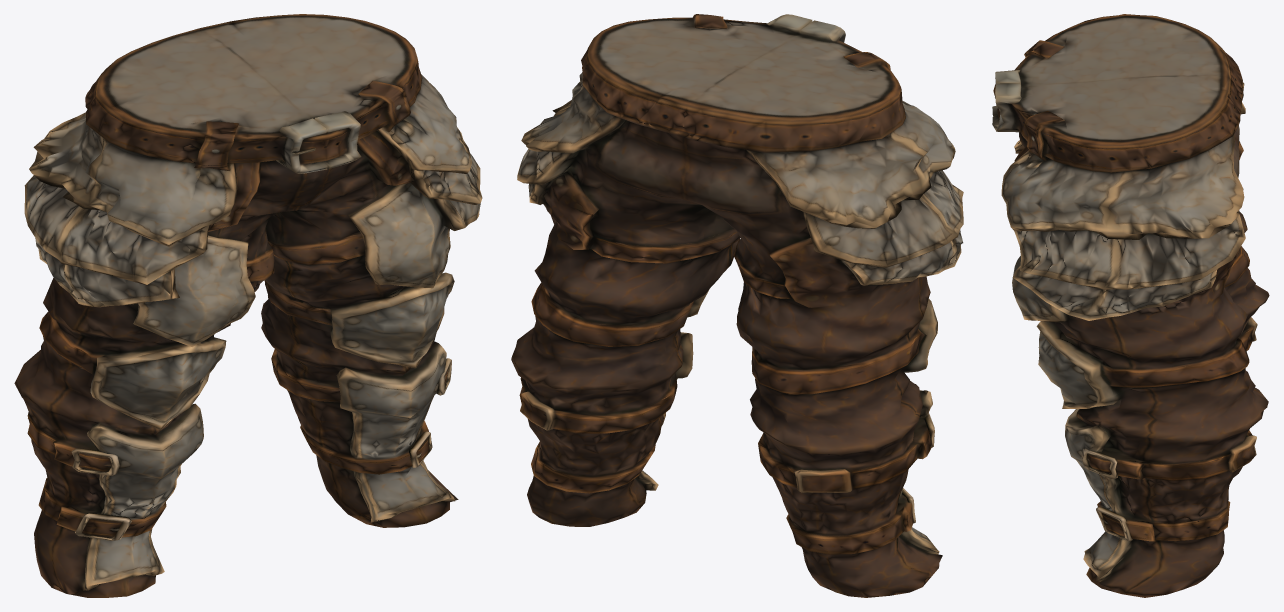
File: ruestung.beine.eisenschienen.glb
The picture shows the model from 3 angles, left to right: view 1: azimuth 30°, elevation 25°; view 2: azimuth 150°, elevation 25°; view 3: azimuth 270°, elevation 25°; orthographic projection. The views are drawn at different scales.
Parts seen in each view (by area): view 1: geometry_0; view 2: geometry_0; view 3: geometry_0.
Boxes of the visible parts, box(x1,y1,x2,y2) form: geometry_0: box(14, 14, 482, 597); geometry_0: box(511, 14, 963, 597); geometry_0: box(992, 14, 1269, 597).
Size of the model in its own units: 0.7925 by 0.867 by 0.499.
Materials: 1 (1 with a texture image).
